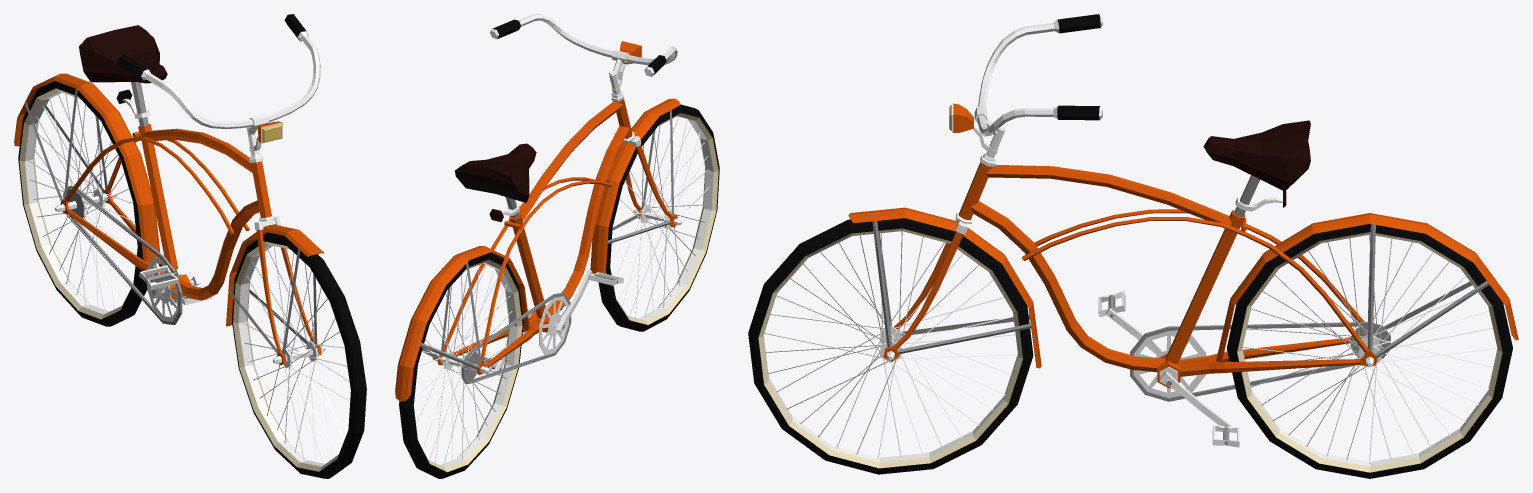
Rendered from CruiserBike_01.FBX.
The picture shows the model from 3 angles, left to right: view 1: azimuth 30°, elevation 25°; view 2: azimuth 150°, elevation 25°; view 3: azimuth 270°, elevation 25°; orthographic projection. The views are drawn at different scales.
Parts seen in each view (by area): view 1: wheel_f, wheel_b, CruiserBike_01, mudguard_b, saddle, handleBars, mudguard_f, steering, chain_lowPoly, crankset, pedal_r, frontLight (+1 smaller); view 2: wheel_f, wheel_b, CruiserBike_01, mudguard_b, mudguard_f, saddle, handleBars, crankset, steering, chain_lowPoly, frontLight, chain; view 3: wheel_f, wheel_b, CruiserBike_01, mudguard_b, saddle, mudguard_f, handleBars, crankset, steering, chain_lowPoly, frontLight.
Boxes of the visible parts, <box> form: wheel_f: <box>232,232,366,478</box>; wheel_b: <box>18,81,147,326</box>; CruiserBike_01: <box>60,124,274,300</box>; mudguard_b: <box>14,73,160,263</box>; saddle: <box>79,25,167,126</box>; handleBars: <box>117,14,320,129</box>; mudguard_f: <box>226,224,323,354</box>; steering: <box>246,114,321,365</box>; chain_lowPoly: <box>67,186,182,324</box>; crankset: <box>145,257,201,321</box>; pedal_r: <box>139,265,178,289</box>; frontLight: <box>249,121,282,151</box>; wheel_f: <box>598,104,719,331</box>; wheel_b: <box>399,252,523,478</box>; CruiserBike_01: <box>437,90,634,374</box>; mudguard_b: <box>395,246,529,401</box>; mudguard_f: <box>590,98,680,273</box>; saddle: <box>455,143,536,218</box>; handleBars: <box>490,14,677,76</box>; crankset: <box>494,269,618,371</box>; steering: <box>609,50,677,227</box>; chain_lowPoly: <box>461,292,571,383</box>; frontLight: <box>611,40,642,92</box>; chain: <box>464,305,541,383</box>; wheel_f: <box>748,218,1033,474</box>; wheel_b: <box>1226,224,1512,478</box>; CruiserBike_01: <box>956,153,1377,387</box>; mudguard_b: <box>1216,213,1518,362</box>; saddle: <box>1203,120,1310,216</box>; mudguard_f: <box>848,207,1041,368</box>; handleBars: <box>977,14,1102,136</box>; crankset: <box>1105,308,1231,426</box>; steering: <box>883,106,1004,361</box>; chain_lowPoly: <box>1130,322,1390,401</box>; frontLight: <box>949,103,997,154</box>.
Size of the model in its own units: 6.53 by 12.94 by 21.69.
